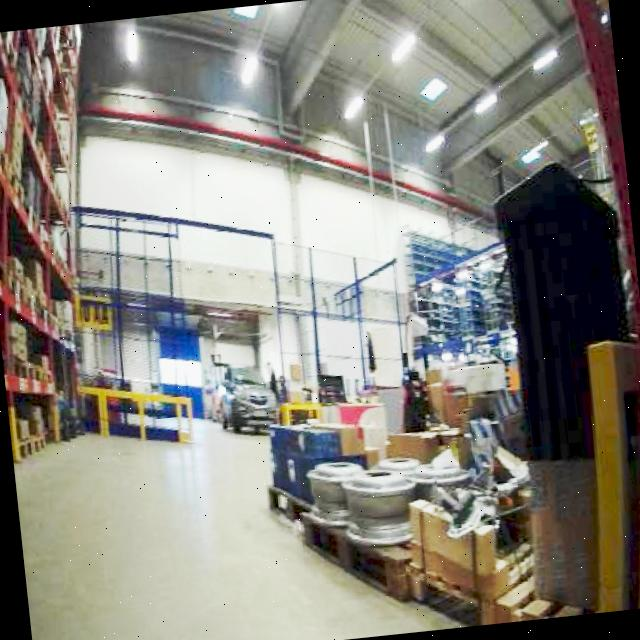ground: (11, 384, 485, 640)
pallet: (253, 336, 640, 640), (0, 23, 149, 640), (266, 448, 587, 640), (565, 334, 640, 611), (78, 371, 198, 453), (623, 495, 640, 607)
